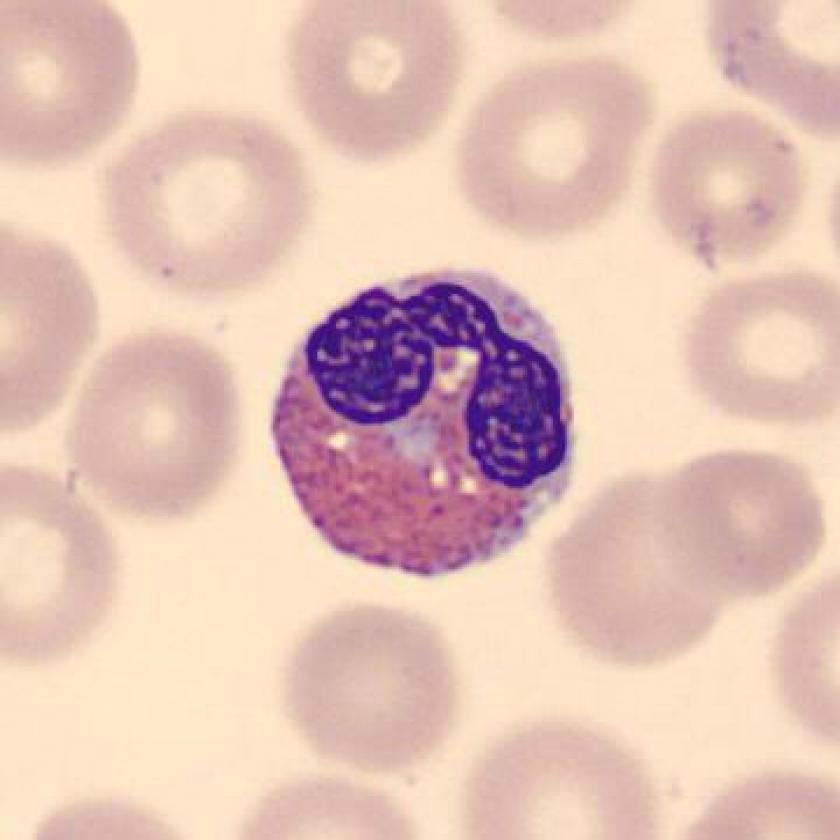eosinophil: (258, 254, 596, 594)
